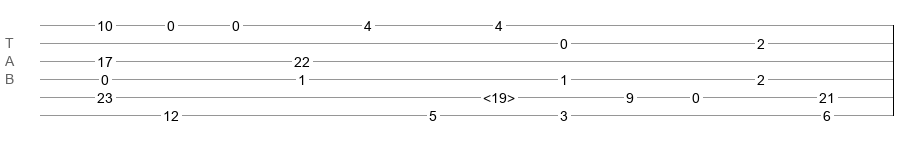0: (101, 72, 109, 82), (167, 18, 175, 28), (232, 18, 240, 28), (560, 36, 568, 46), (692, 90, 700, 100)
1: (298, 72, 306, 82), (560, 72, 568, 82)
10: (97, 18, 113, 28)
12: (163, 108, 179, 118)
17: (97, 54, 113, 64)
2: (757, 72, 765, 82), (757, 36, 765, 46)
21: (819, 90, 835, 100)
22: (294, 54, 310, 64)
23: (97, 90, 113, 100)
3: (560, 108, 568, 118)
4: (364, 18, 372, 28), (495, 18, 503, 28)
5: (429, 108, 437, 118)
6: (823, 108, 831, 118)
9: (626, 90, 634, 100)
harmonic: (483, 90, 515, 100)
